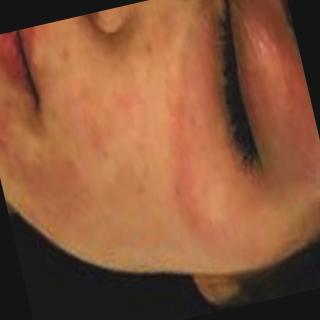urticaria: (173, 72, 221, 235)
